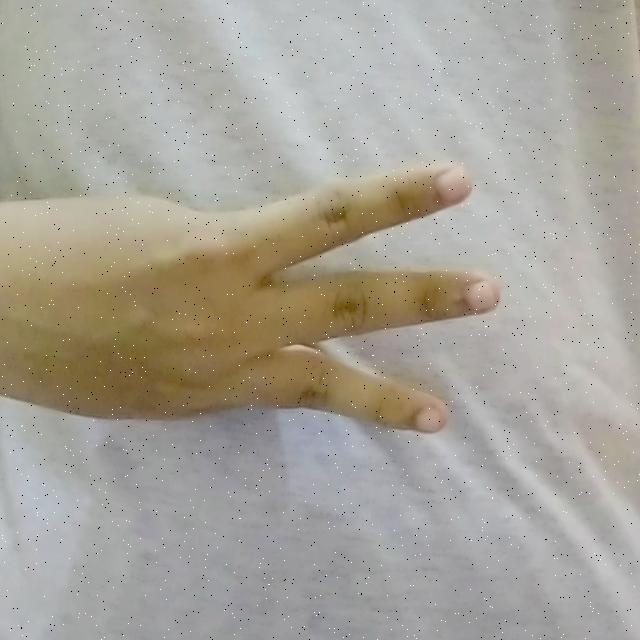E: (9, 154, 508, 446)
